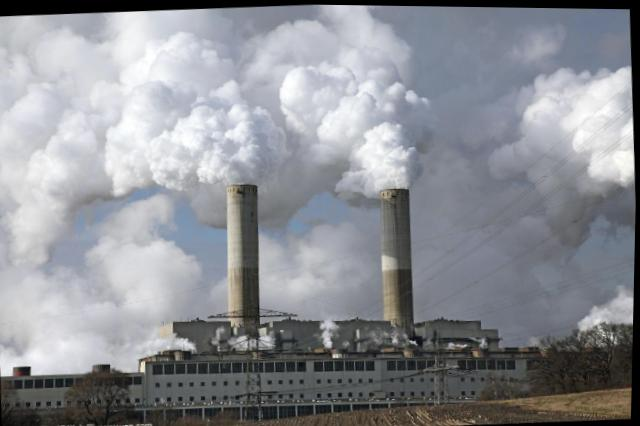smoke: (0, 4, 269, 185), (263, 3, 417, 187), (101, 236, 176, 288), (514, 79, 577, 127), (6, 186, 50, 250), (305, 228, 345, 250), (579, 70, 615, 92), (598, 157, 627, 179)
